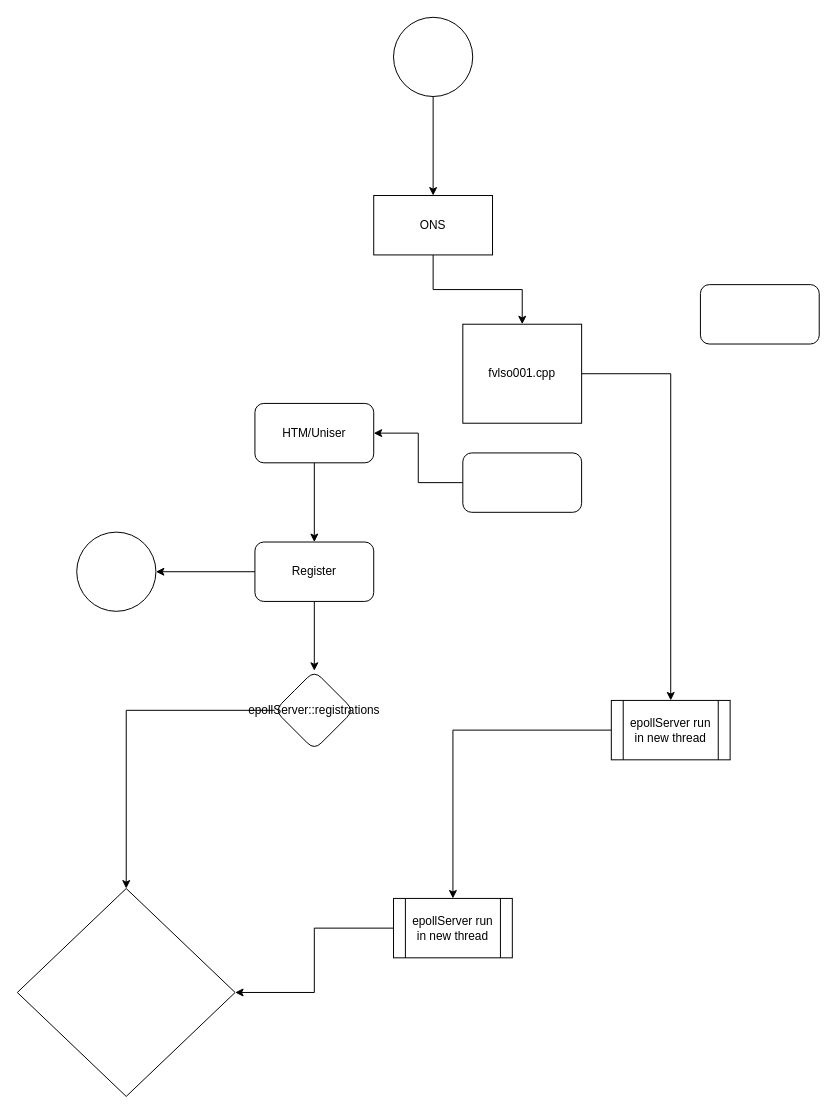
The diagram is 837 pixels wide and 1114 high, and some of its shapes have lost their labels. The shapes that lost their labels are listed below. From the top down, each one's centre as x and y in pixels, then its label:
At (433,56): "start service".
At (522,482): "main()".
At (116,571): "process done.".
At (125,992): "infinite while loop()".
